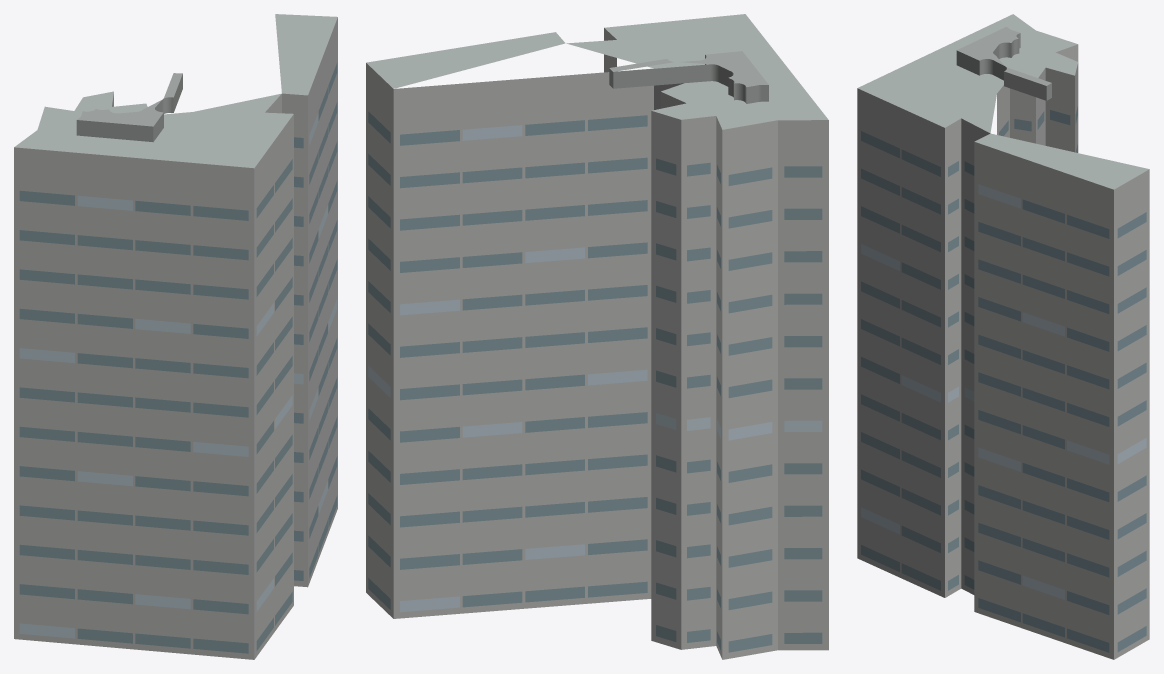
Rendered from fallback-godeok-gracium-149.glb.
3 renders of one model, left to right at view 1: azimuth 30°, elevation 25°; view 2: azimuth 150°, elevation 25°; view 3: azimuth 270°, elevation 25°, orthographic. The views are drawn at different scales.
Parts seen in each view (by area): view 1: fallback-godeok-gracium-149; view 2: fallback-godeok-gracium-149; view 3: fallback-godeok-gracium-149.
Boxes of the visible parts, x1=… form: fallback-godeok-gracium-149: x1=14, y1=14, x2=337, y2=659; fallback-godeok-gracium-149: x1=366, y1=14, x2=828, y2=659; fallback-godeok-gracium-149: x1=857, y1=14, x2=1149, y2=659.
Bounding box in the file's own units: 60.6 × 78 × 42.6.
